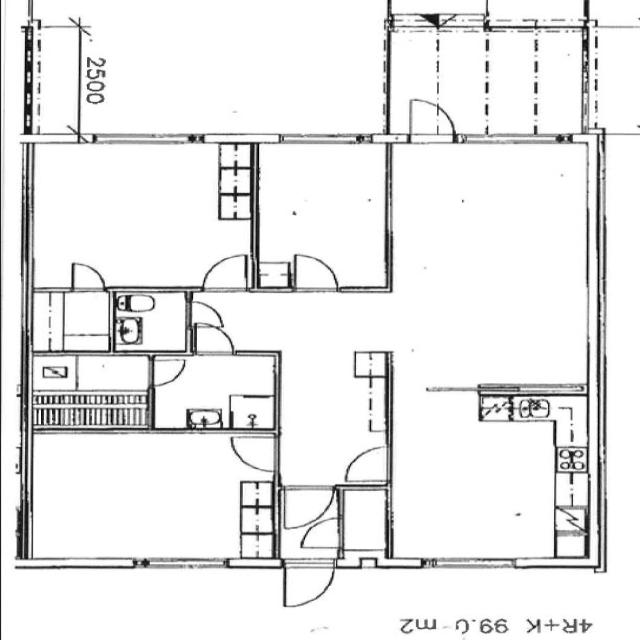door: (280, 516, 336, 610), (282, 487, 344, 551), (404, 94, 456, 140), (198, 250, 252, 294), (290, 250, 344, 294), (228, 432, 280, 474), (340, 443, 392, 484), (296, 516, 347, 552), (191, 321, 238, 357), (67, 259, 111, 295), (147, 354, 188, 388), (186, 300, 226, 330)
window: (452, 130, 572, 148), (87, 130, 200, 148), (279, 132, 365, 148)
zone: (390, 140, 603, 390), (23, 425, 271, 568), (393, 390, 594, 564), (27, 139, 255, 290), (279, 289, 394, 486), (255, 138, 388, 288), (151, 355, 280, 431), (30, 353, 151, 429), (27, 290, 119, 356), (113, 289, 190, 353), (257, 262, 292, 290)
